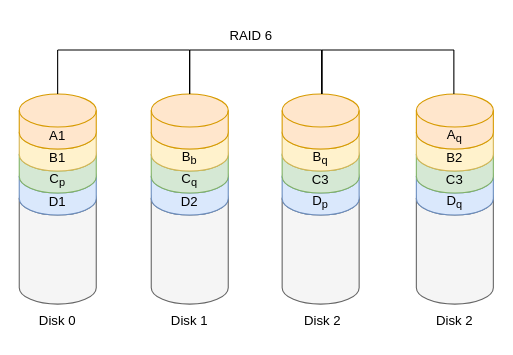
Some shapes in this 513 by 355 pixel diagram are drawn without their labels. Each missing label, with the box of its shape:
A p: (281, 93, 359, 149)
A2: (150, 93, 228, 149)
